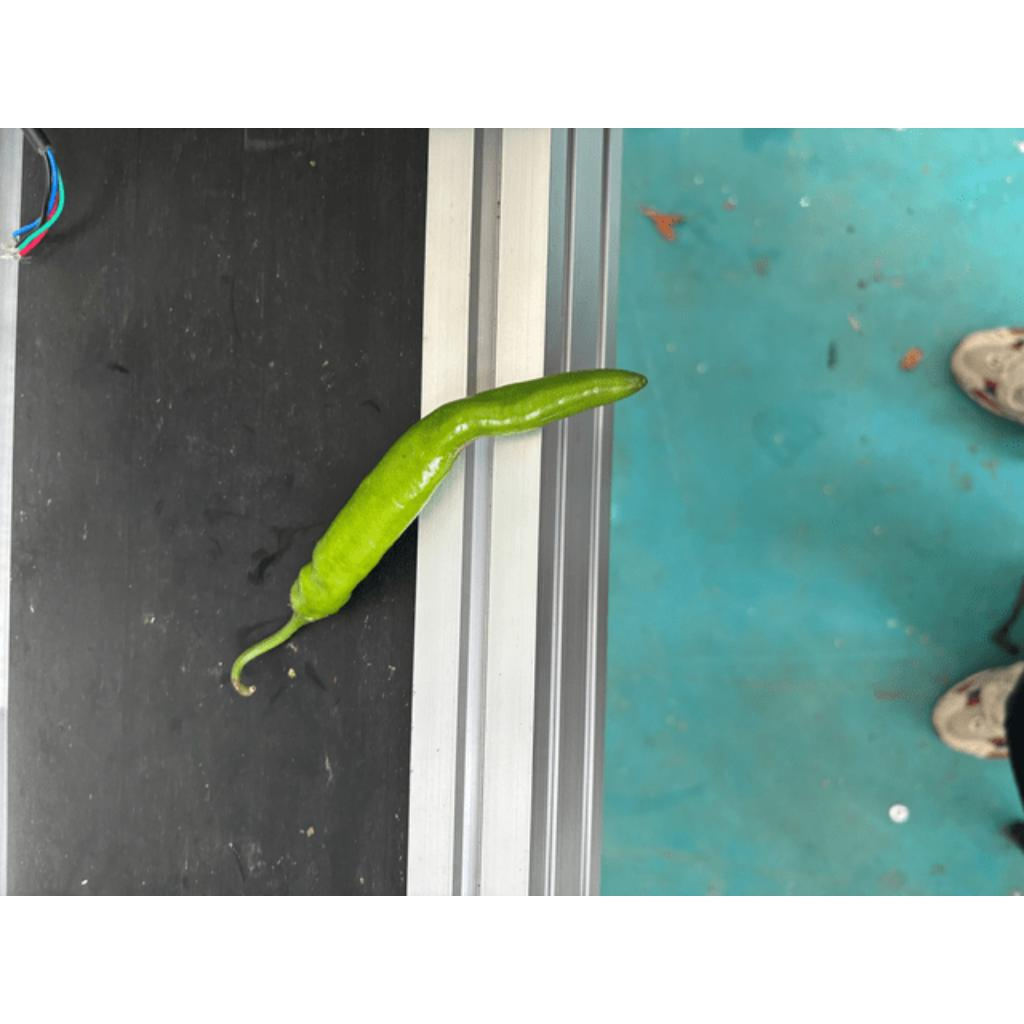chili: (290, 367, 652, 624)
